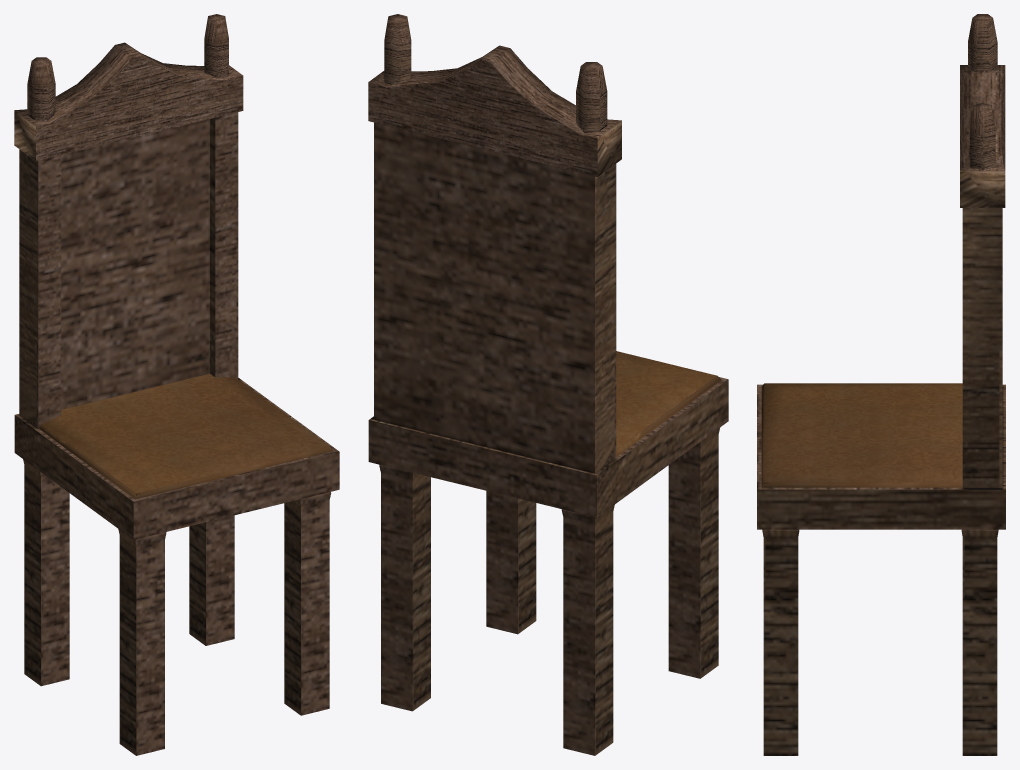
The model's file is obj_wooden_simple_chair_019131.glb.
3 renders of one model, left to right at view 1: azimuth 30°, elevation 25°; view 2: azimuth 150°, elevation 25°; view 3: azimuth 270°, elevation 25°, orthographic. The views are drawn at different scales.
Parts seen in each view (by area): view 1: obj_wooden_simple_chair_019131; view 2: obj_wooden_simple_chair_019131; view 3: obj_wooden_simple_chair_019131.
Part boxes in pixels (bbox=[...]): obj_wooden_simple_chair_019131: bbox=[14, 14, 339, 755]; obj_wooden_simple_chair_019131: bbox=[368, 14, 728, 755]; obj_wooden_simple_chair_019131: bbox=[757, 14, 1005, 755].
Size of the model in its own units: 0.2992 by 0.85 by 0.2976.
Materials: 1 (1 with a texture image).
